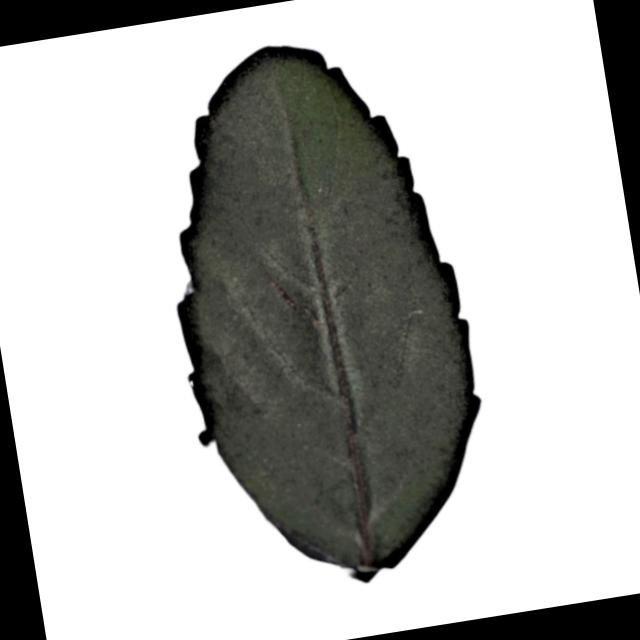tulsi: (137, 17, 508, 600)
